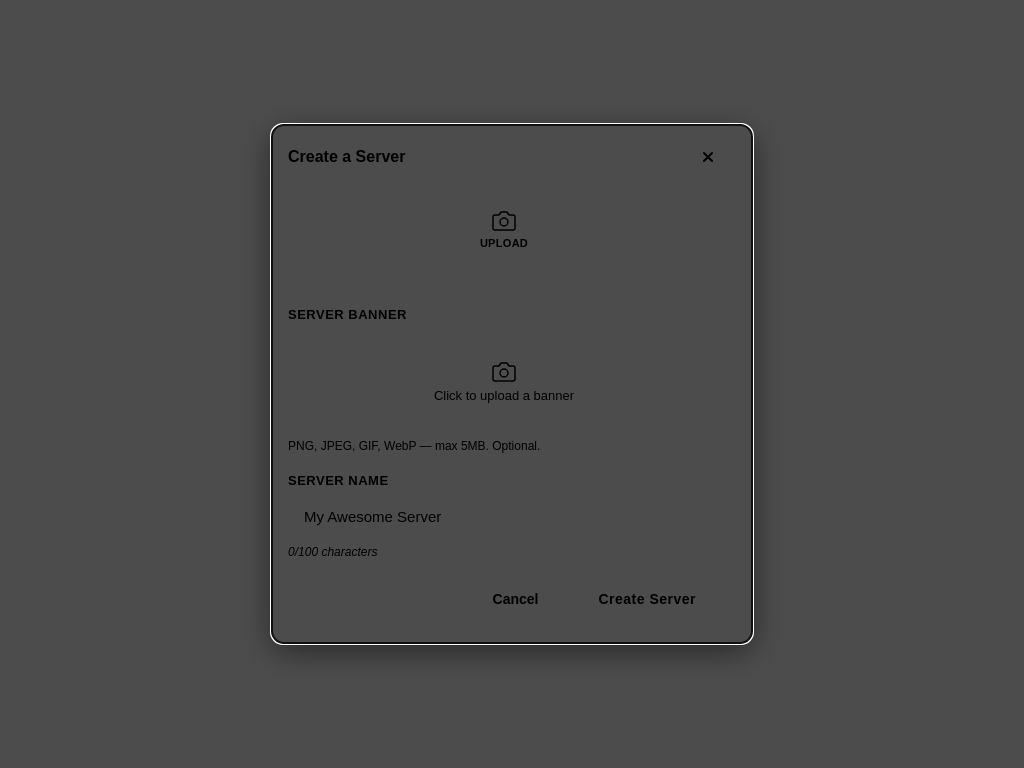
Test: CreateServerModal › shows validation error for short name
Type "ab" into the field with placeholder "My Awesome Server" at (520, 516), box [288,496,752,537]
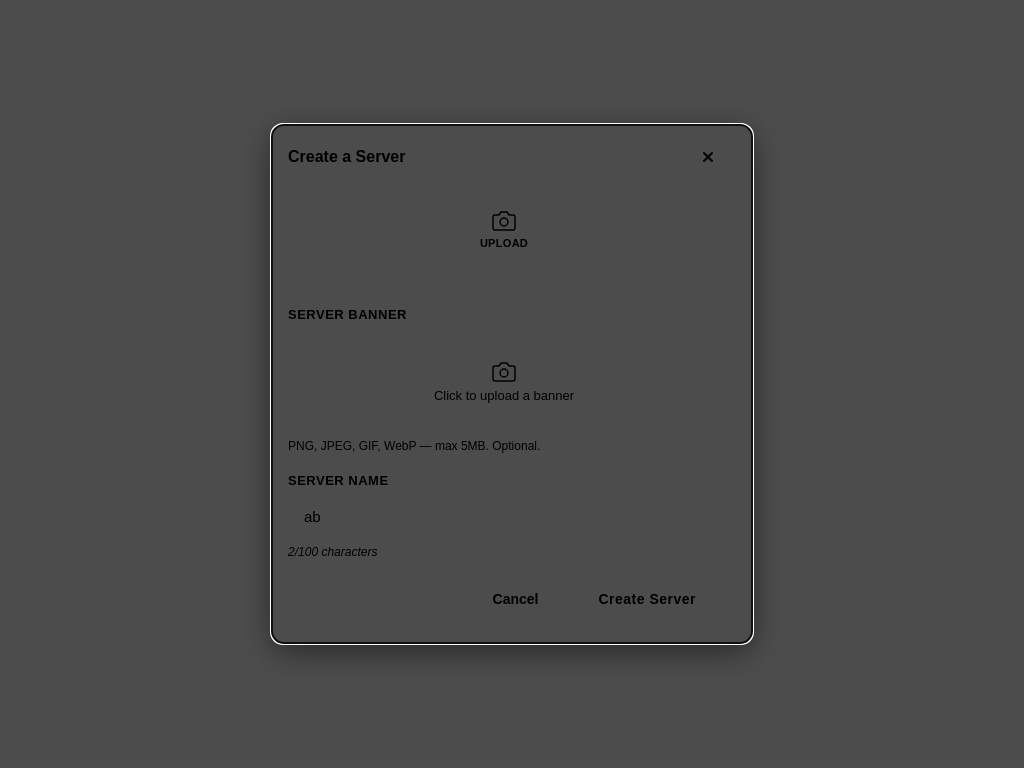
Click the button "Create Server" at (647, 599), box [574,579,720,619]
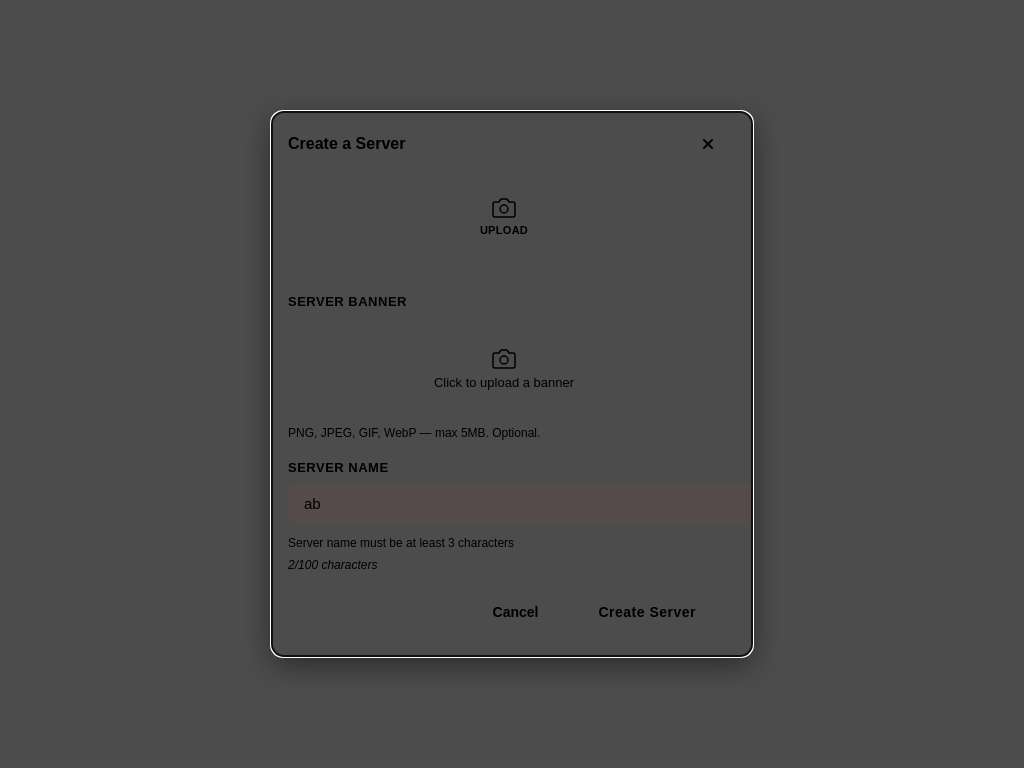
Now the text "Server name must be at least 3 characters" is shown, box [288,536,514,550]
